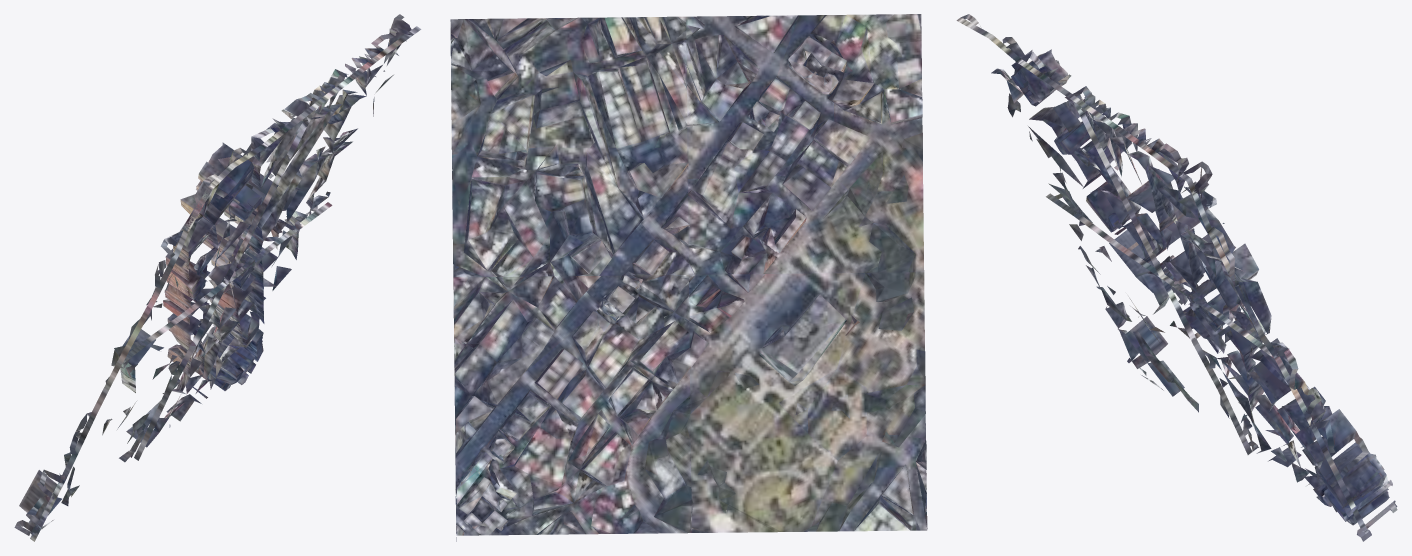
The picture shows the model from 3 angles, left to right: view 1: azimuth 30°, elevation 25°; view 2: azimuth 150°, elevation 25°; view 3: azimuth 270°, elevation 25°; orthographic projection. The views are drawn at different scales.
Bounding box in the file's own units: 624 × 574 × 551.
1 material, 1 textured.
